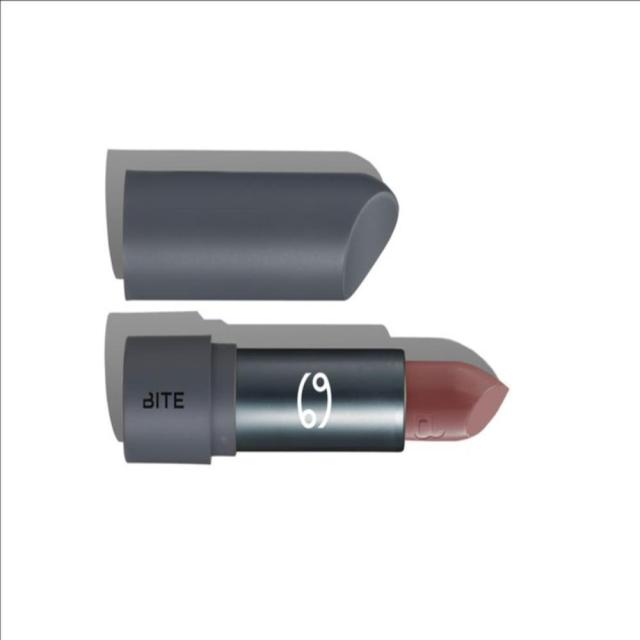lipstick: (82, 133, 522, 495)
